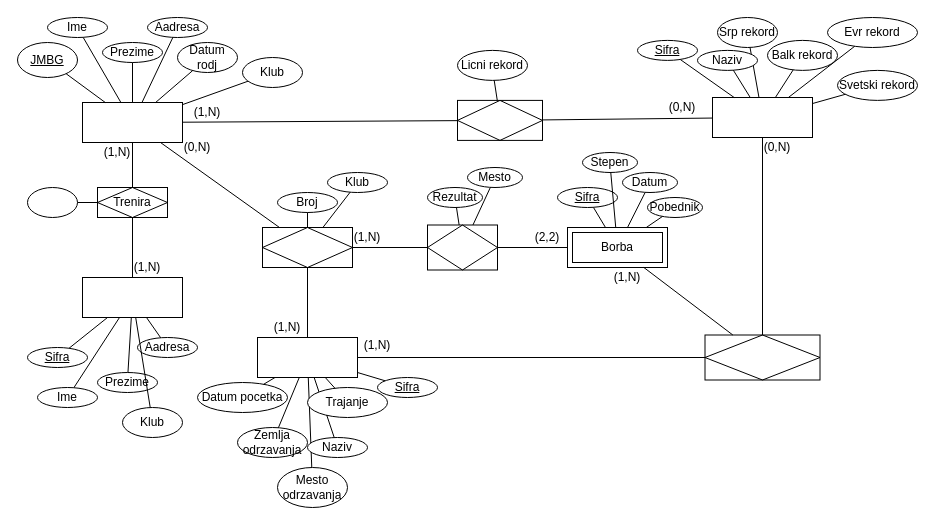
This 935x525 diagram has some shape labels left out. The box of each missing label's shape, as (x1, y1, x2, y2) in pixels:
Atleticar: (82, 102, 182, 142)
Disciplina: (712, 96, 812, 138)
Disciplina je na takmicenju: (704, 334, 820, 380)
Period: (26, 186, 78, 218)
Takmicenje: (256, 336, 358, 378)
Takmici se: (456, 99, 542, 140)
Trener: (82, 276, 182, 318)
Ucestvuje: (262, 226, 352, 268)
Ucestvuje u borbi: (426, 224, 498, 270)
